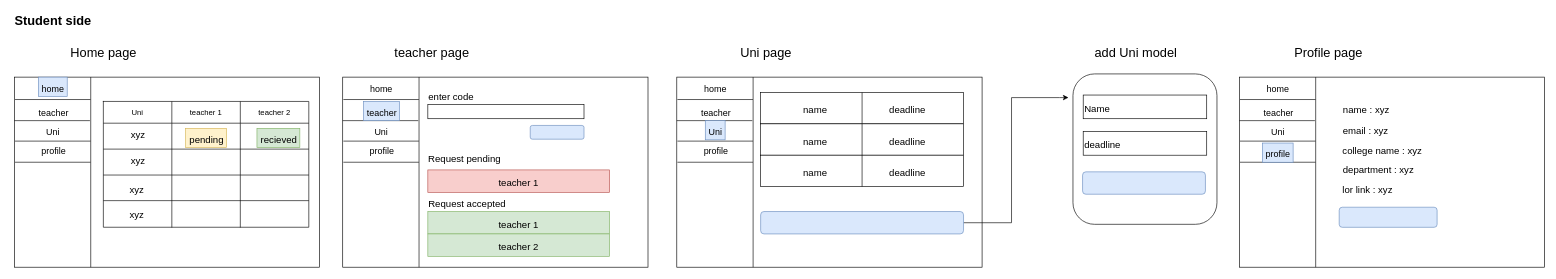
Image size: 1556x279. Some labels were removed from this diagram. The shapes that lost their labels are listed below. From the top down, each one's centre as x and y in pixels, then its label:
point (557, 132): add teacher
point (1143, 182): Add
point (862, 222): Add Uni
point (1388, 217): Add details
